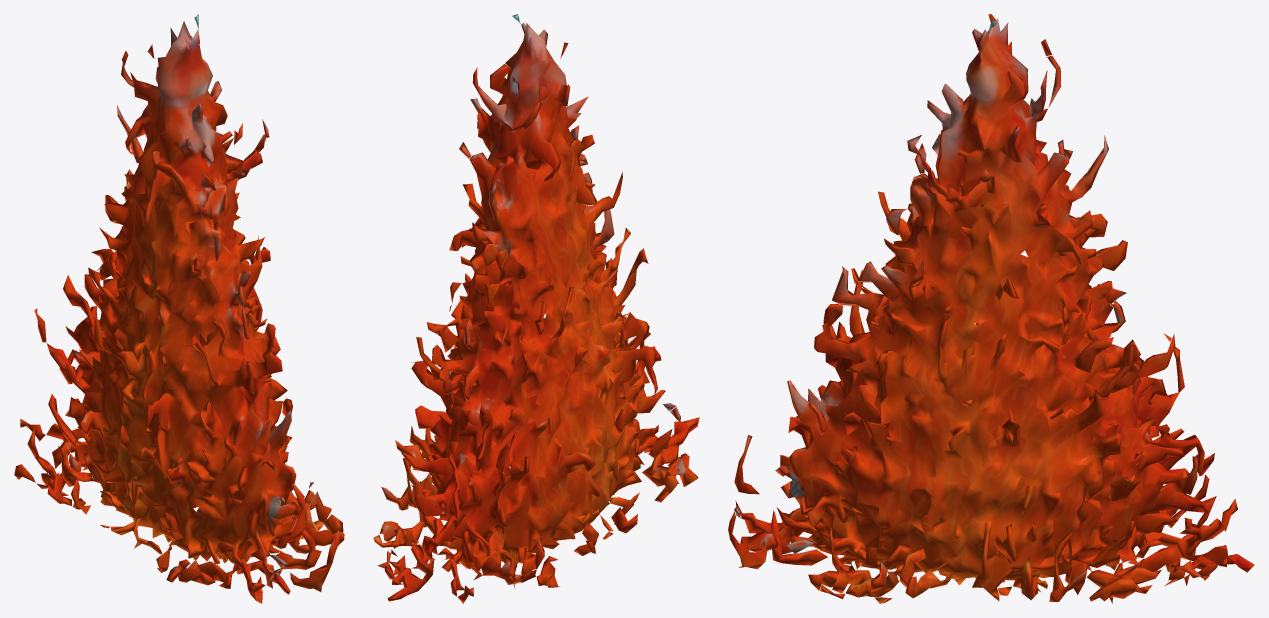
Rendered from fire.glb.
The picture shows the model from 3 angles, left to right: view 1: azimuth 30°, elevation 25°; view 2: azimuth 150°, elevation 25°; view 3: azimuth 270°, elevation 25°; orthographic projection. The views are drawn at different scales.
Visible parts, largest first — view 1: tripo_node_447a2877-e1ab-411c-ad1e-78e9367deb86; view 2: tripo_node_447a2877-e1ab-411c-ad1e-78e9367deb86; view 3: tripo_node_447a2877-e1ab-411c-ad1e-78e9367deb86.
Part boxes in pixels (<box>): tripo_node_447a2877-e1ab-411c-ad1e-78e9367deb86: <box>14,14,344,603</box>; tripo_node_447a2877-e1ab-411c-ad1e-78e9367deb86: <box>373,14,699,603</box>; tripo_node_447a2877-e1ab-411c-ad1e-78e9367deb86: <box>728,14,1254,603</box>.
Size of the model in its own units: 0.4395 by 0.9638 by 0.808.
Materials: 1 (1 with a texture image).
